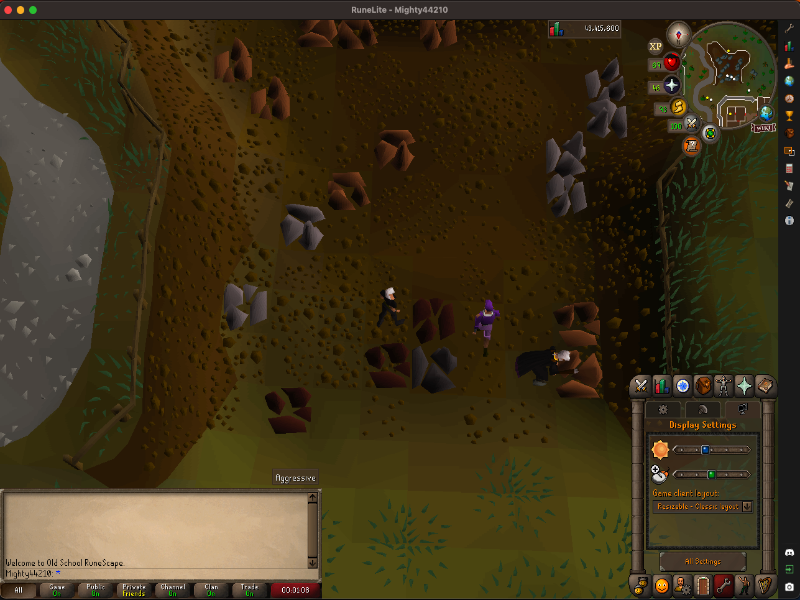iron: (370, 348, 409, 387), (414, 303, 453, 338), (270, 394, 306, 431)
